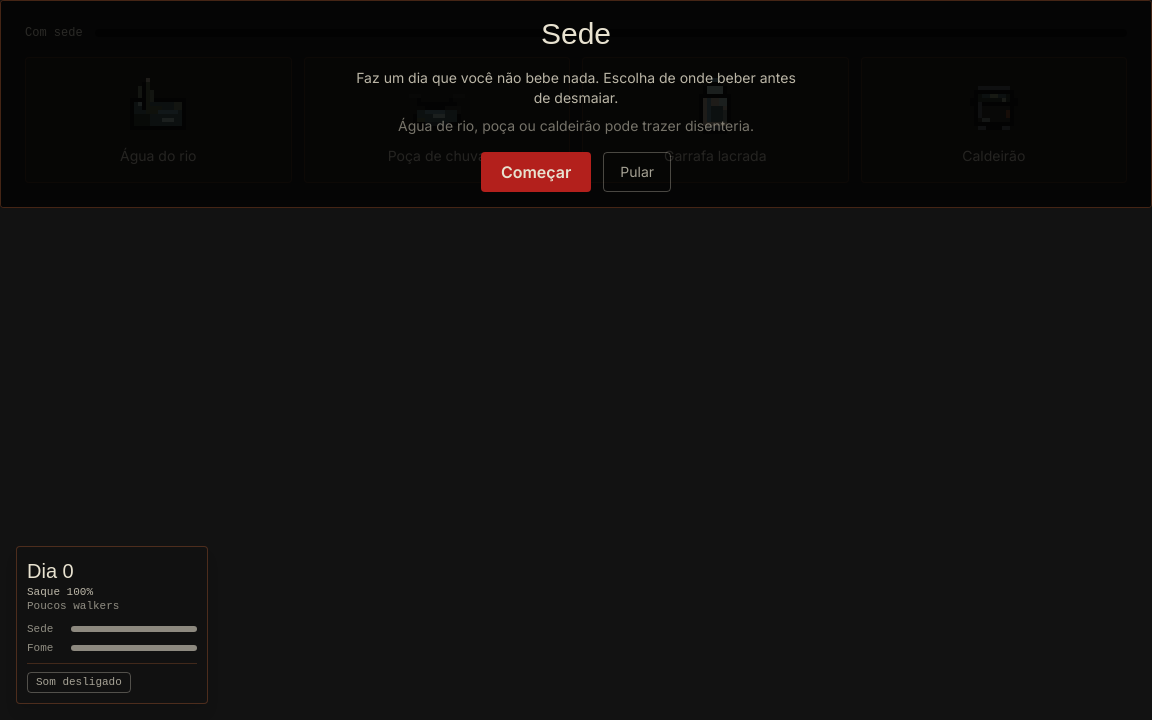
Scenario: WaterGame › sealed water is safe
Click the button "Começar".
click(536, 172)  # box [481,152,591,192]
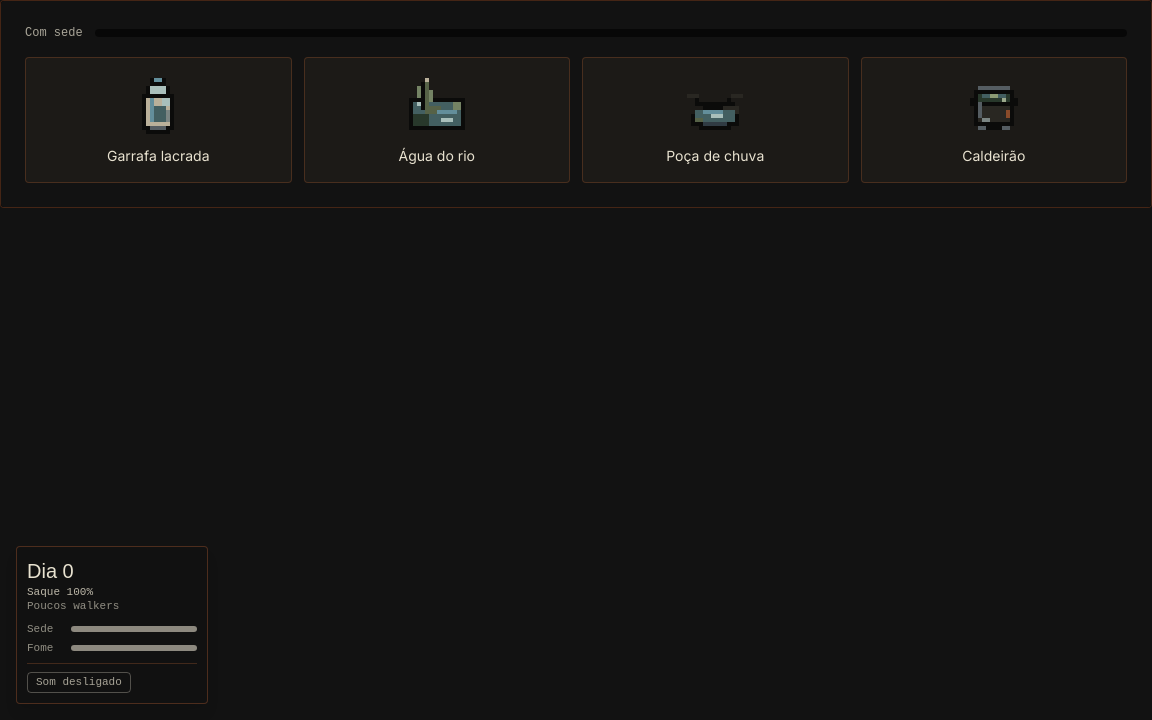
Click the button "Garrafa lacrada".
click(158, 120)  # box [25,57,292,183]
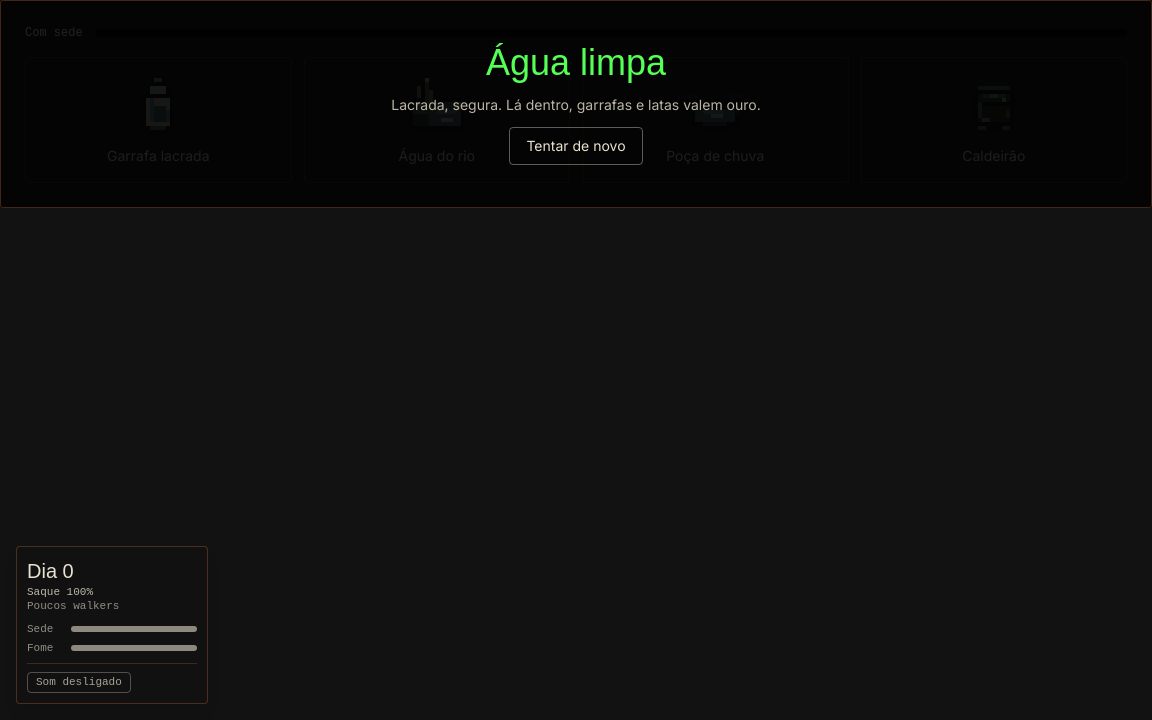
Check: the message named "sobrevivente" does not show "Sick", box [16,546,208,704]
Check: the heading "Água limpa" is shown, box [486,43,666,83]
